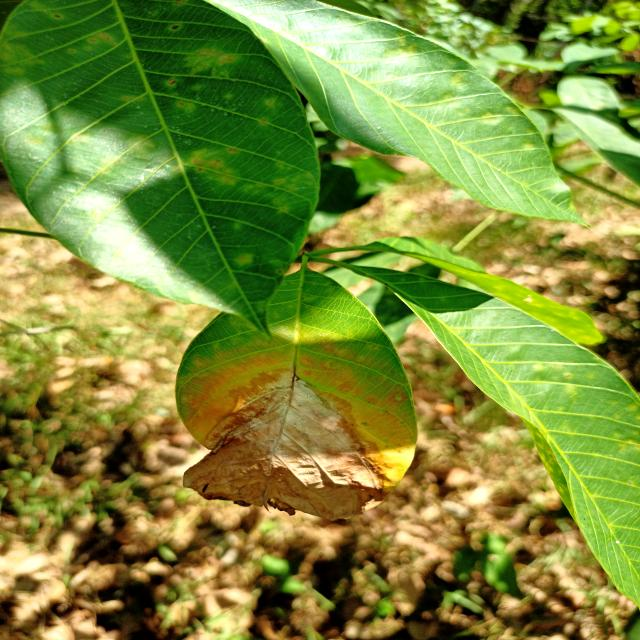Colletotrichum: (169, 78, 176, 85), (172, 25, 180, 30)
Leaf-Blight: (183, 375, 387, 522)
